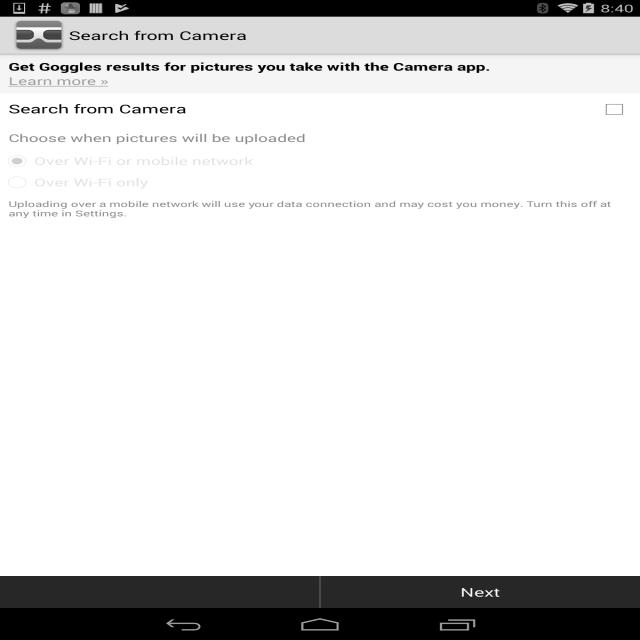Button: (320, 576, 640, 608)
CheckBox: (598, 99, 632, 120)
ImageView: (14, 19, 64, 52)
RadioButton: (0, 150, 640, 172), (0, 172, 640, 193)
TextView: (0, 193, 640, 224), (9, 100, 598, 117), (0, 126, 314, 150), (9, 59, 490, 74), (69, 27, 247, 43), (9, 74, 108, 88)
